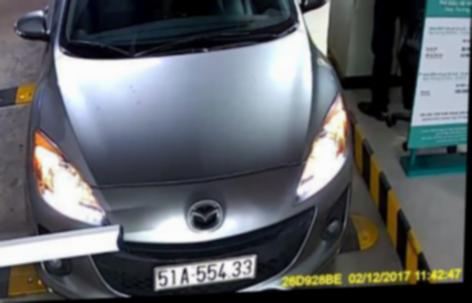License_Plate: (150, 255, 263, 290)
